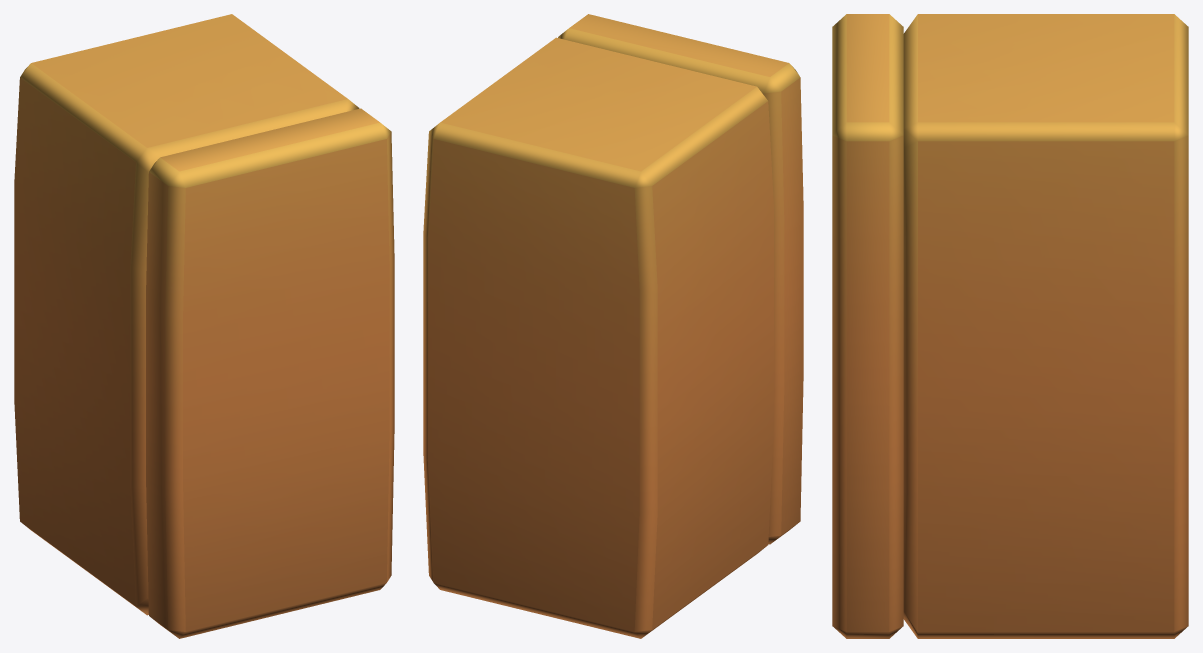
Rendered from sarcophagus_simple.fbx.
The picture shows the model from 3 angles, left to right: view 1: azimuth 30°, elevation 25°; view 2: azimuth 150°, elevation 25°; view 3: azimuth 270°, elevation 25°; orthographic projection. The views are drawn at different scales.
Parts seen in each view (by area): view 1: sarcophagus_simple_door, sarcophagus_simple; view 2: sarcophagus_simple, sarcophagus_simple_door; view 3: sarcophagus_simple, sarcophagus_simple_door.
Boxes of the visible parts, left/top/right/bottom form: sarcophagus_simple_door: left=146, top=108, right=394, bottom=638; sarcophagus_simple: left=14, top=14, right=359, bottom=615; sarcophagus_simple: left=423, top=37, right=773, bottom=638; sarcophagus_simple_door: left=558, top=14, right=803, bottom=544; sarcophagus_simple: left=903, top=14, right=1188, bottom=638; sarcophagus_simple_door: left=832, top=14, right=903, bottom=638.
Size of the model in its own units: 105 by 200 by 125.
